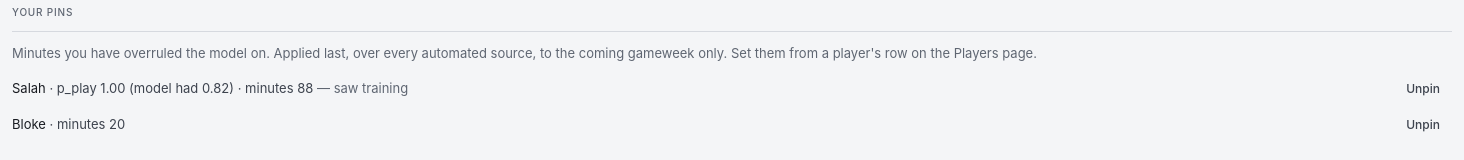
it: OverridesCard › unpins through DELETE and repaints from the re-read
Click the button with aria-label "unpin Salah" at (1423, 89), box left=1394, top=75, right=1452, bottom=103
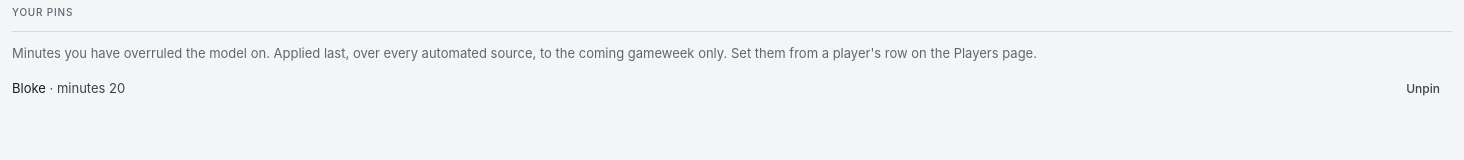
Check: the text "saw training" is gone
